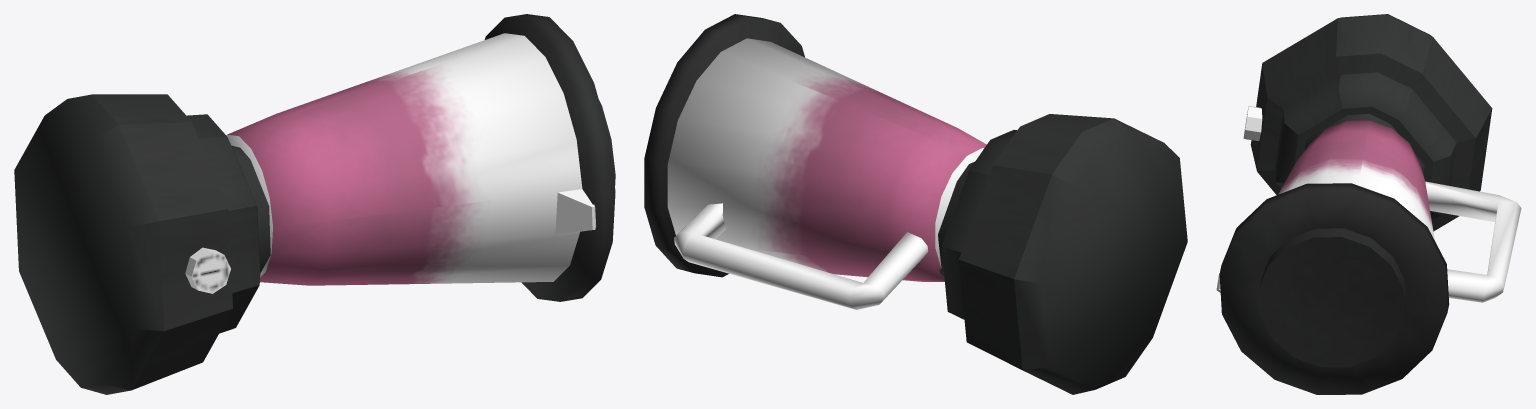
Rendered from C_Blender.fbx.
3 renders of one model, left to right at view 1: azimuth 30°, elevation 25°; view 2: azimuth 150°, elevation 25°; view 3: azimuth 270°, elevation 25°, orthographic. The views are drawn at different scales.
Parts seen in each view (by area): view 1: Blender; view 2: Blender; view 3: Blender.
Part boxes in pixels (x1,y1,x2,y2): Blender: (14, 14, 615, 394); Blender: (644, 14, 1187, 394); Blender: (1216, 14, 1521, 394).
Bounding box in the file's own units: 54.84 × 30.18 × 36.86.
